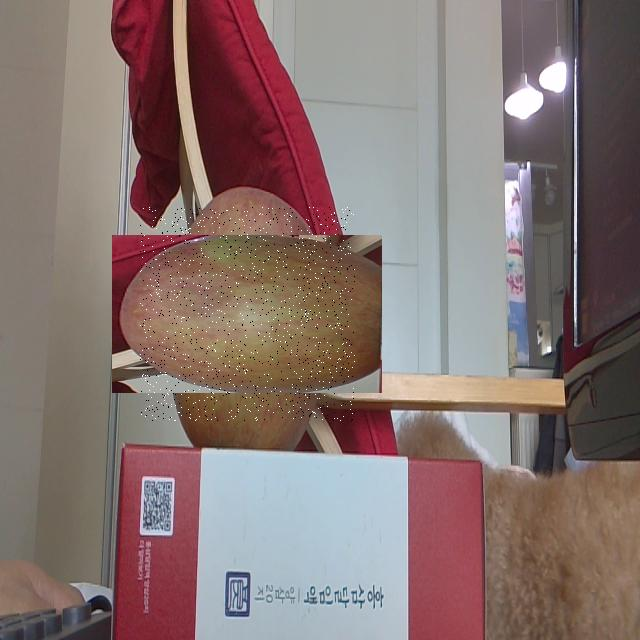apple: (140, 207, 355, 421)
